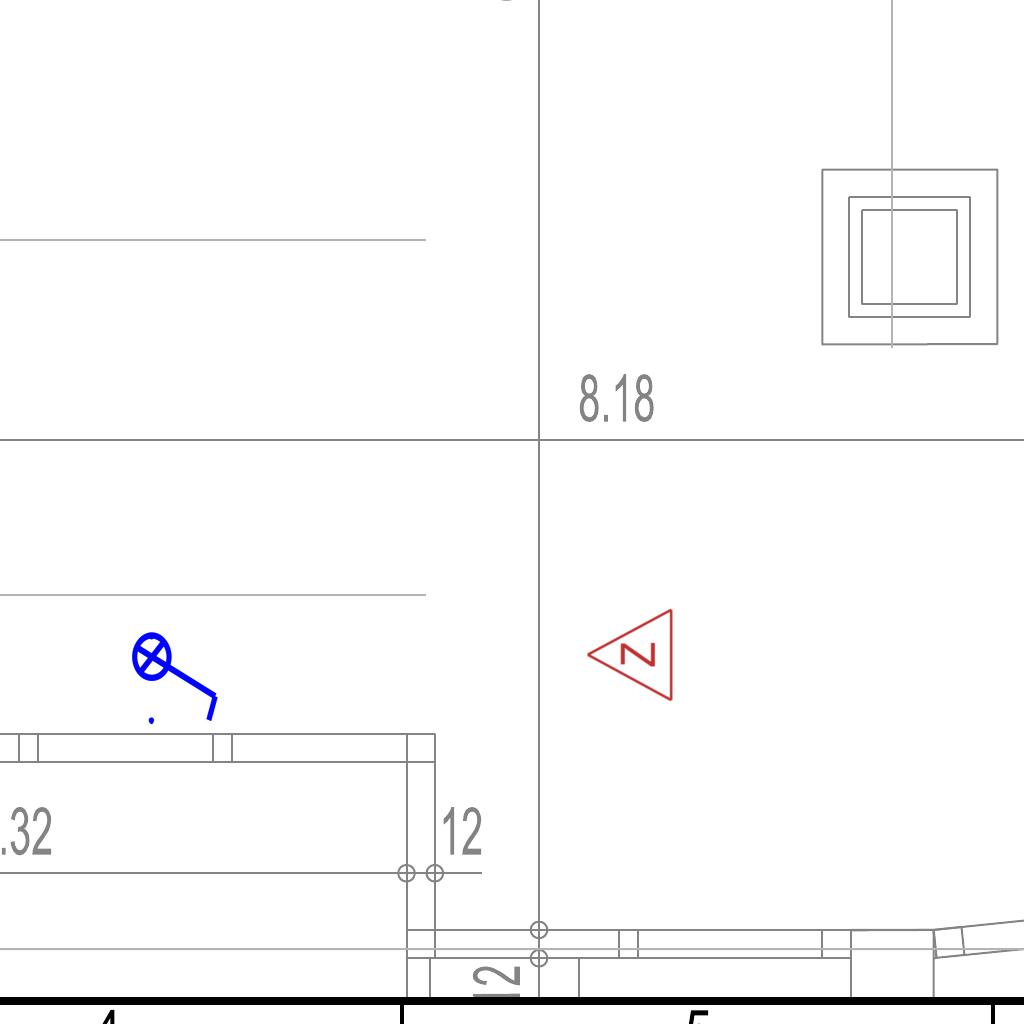Ausschalter_beleuchtet: (130, 618, 226, 730)
Zimmersignalleuchte: (580, 607, 680, 705)
